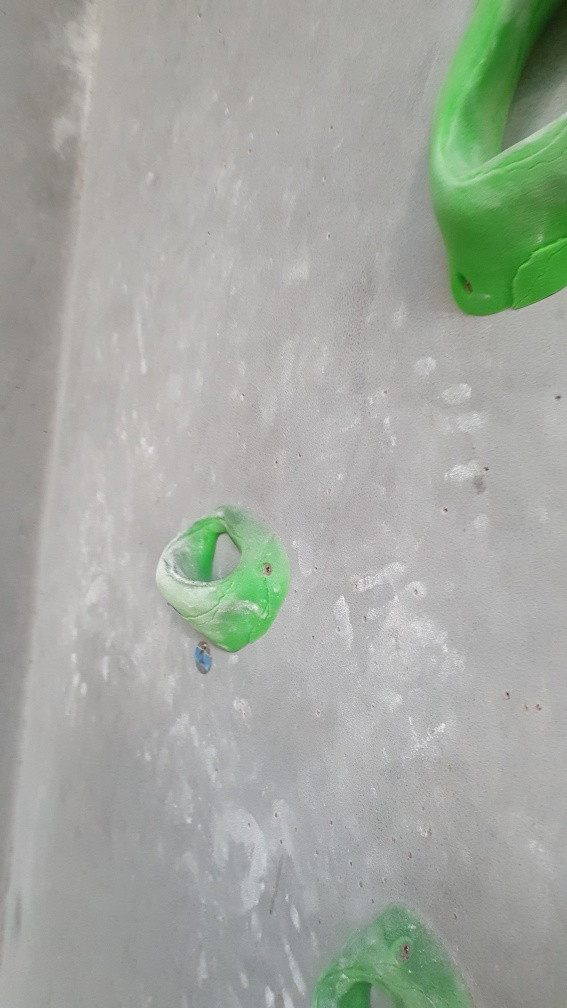Hand Start: (190, 641, 214, 674)
Pocket: (426, 1, 567, 323), (152, 499, 294, 652)
